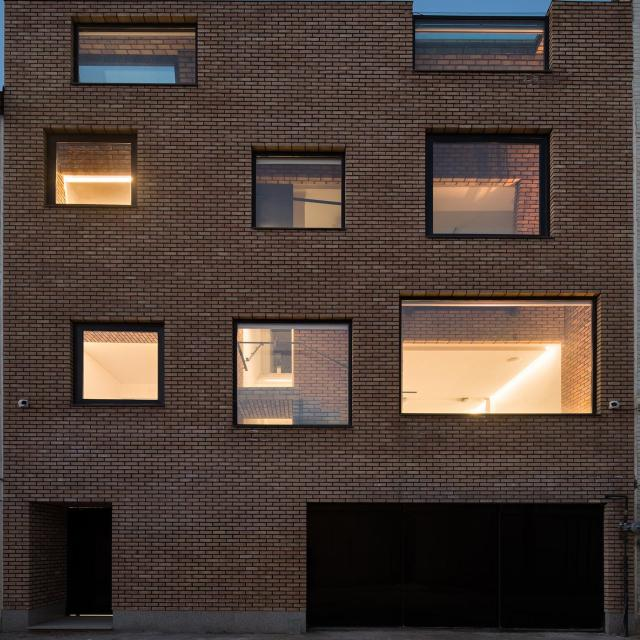door: (63, 505, 113, 620)
wall: (0, 0, 640, 639)
windows: (399, 300, 600, 416), (425, 135, 546, 236), (234, 322, 348, 427), (76, 22, 196, 84), (250, 151, 344, 229), (414, 17, 548, 70), (48, 136, 136, 206), (81, 327, 162, 401)
